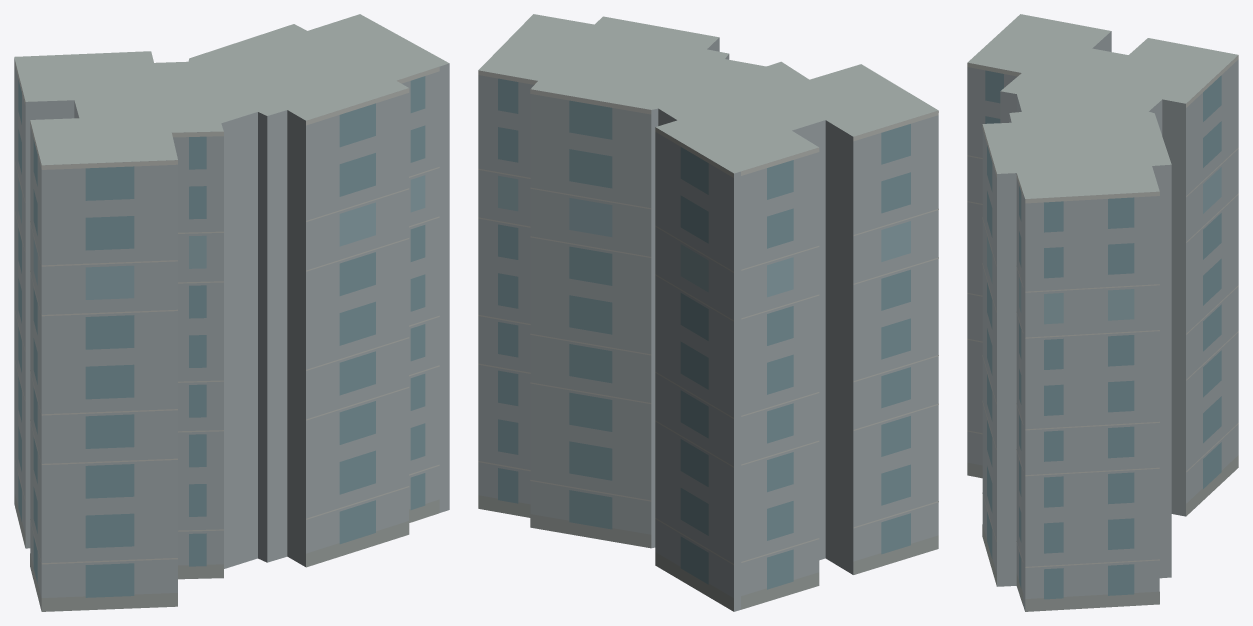
The model's file is survey-upis-32723596.glb.
The picture shows the model from 3 angles, left to right: view 1: azimuth 30°, elevation 25°; view 2: azimuth 150°, elevation 25°; view 3: azimuth 270°, elevation 25°; orthographic projection. The views are drawn at different scales.
Parts seen in each view (by area): view 1: survey-upis-32723596.tmp; view 2: survey-upis-32723596.tmp; view 3: survey-upis-32723596.tmp.
Boxes of the visible parts, x1,y1,x2,y2 form: survey-upis-32723596.tmp: (14, 14, 449, 611); survey-upis-32723596.tmp: (478, 14, 938, 611); survey-upis-32723596.tmp: (967, 14, 1238, 611).
Size of the model in its own units: 22.09 by 22.95 by 13.69.
